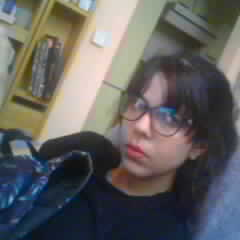without_mask: (117, 74, 189, 177)
